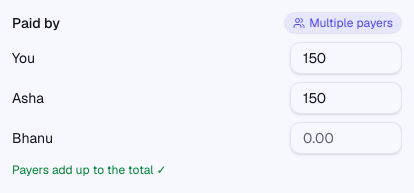
Scenario: PayersEditor › can go back to a single payer
Click the button "Multiple payers" at x=343, y=23, box [284,12,402,34]
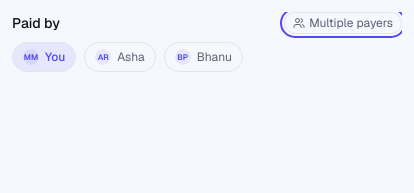
Expected: the button "AR Asha" is shown, [84,42,156,72]
